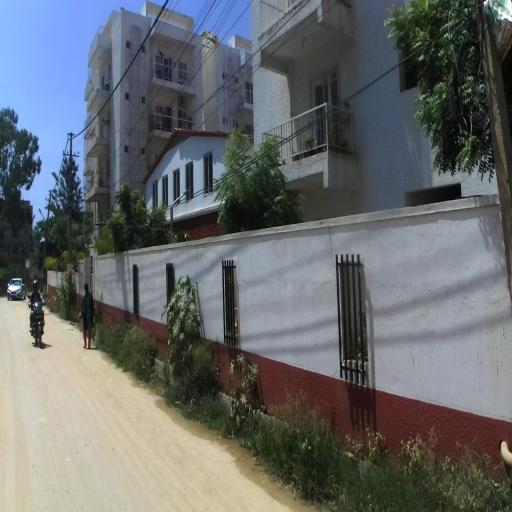street_light_0: (52, 172, 72, 208), (38, 208, 48, 231)
